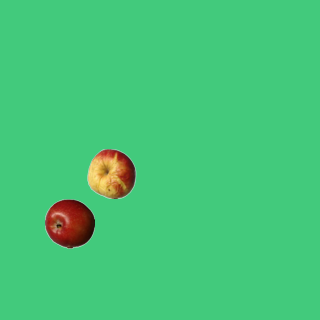Apple Braeburn: (44, 198, 94, 248)
Apple Red Yellow 1: (86, 148, 136, 198)
